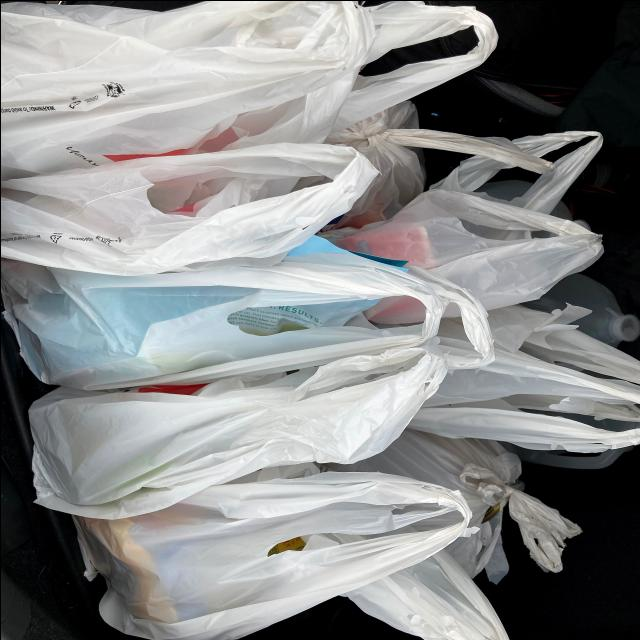plastik: (0, 236, 493, 389), (29, 347, 445, 518), (75, 470, 469, 640), (0, 0, 374, 179), (0, 142, 377, 274), (336, 131, 602, 308), (331, 428, 580, 581), (408, 305, 640, 451), (324, 100, 553, 227), (331, 0, 497, 131), (343, 550, 509, 640)
